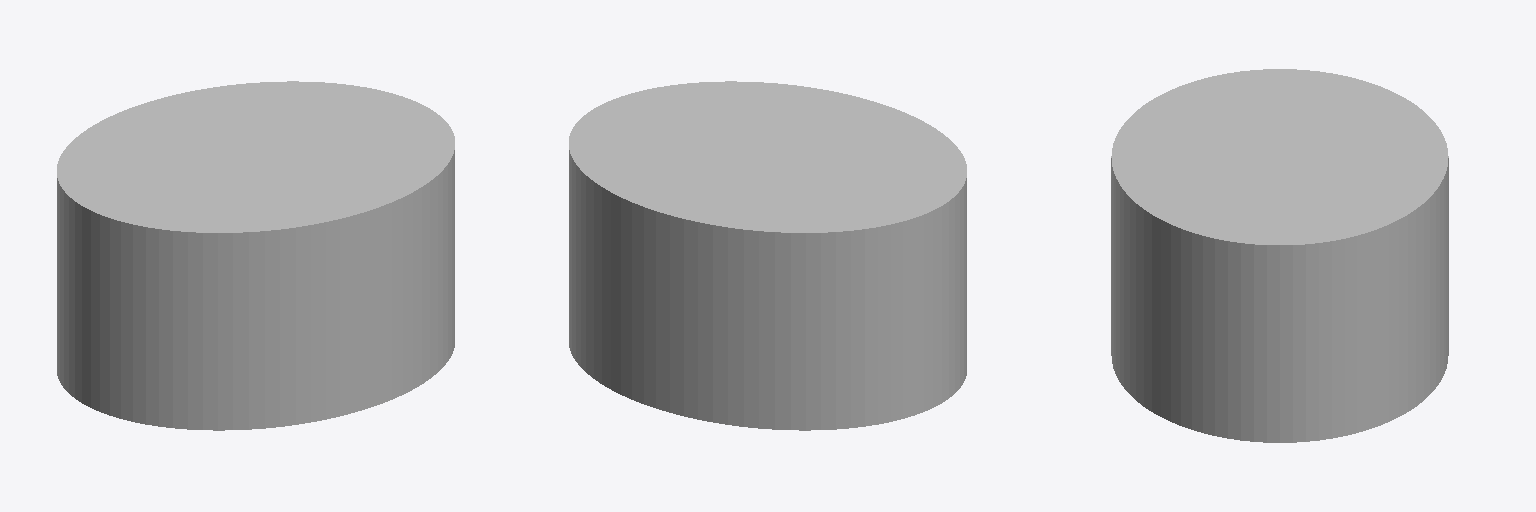
File: Office Room.obj
3 renders of one model, left to right at view 1: azimuth 30°, elevation 25°; view 2: azimuth 150°, elevation 25°; view 3: azimuth 270°, elevation 25°, orthographic.
Visible parts, largest first — view 1: pCylinder1; view 2: pCylinder1; view 3: pCylinder1.
Part boxes in pixels (x1,y1,x2,y2): pCylinder1: (57,81,454,430); pCylinder1: (569,81,966,430); pCylinder1: (1111,69,1448,442).
Size of the model in its own units: 21.47 by 11.2 by 17.33.